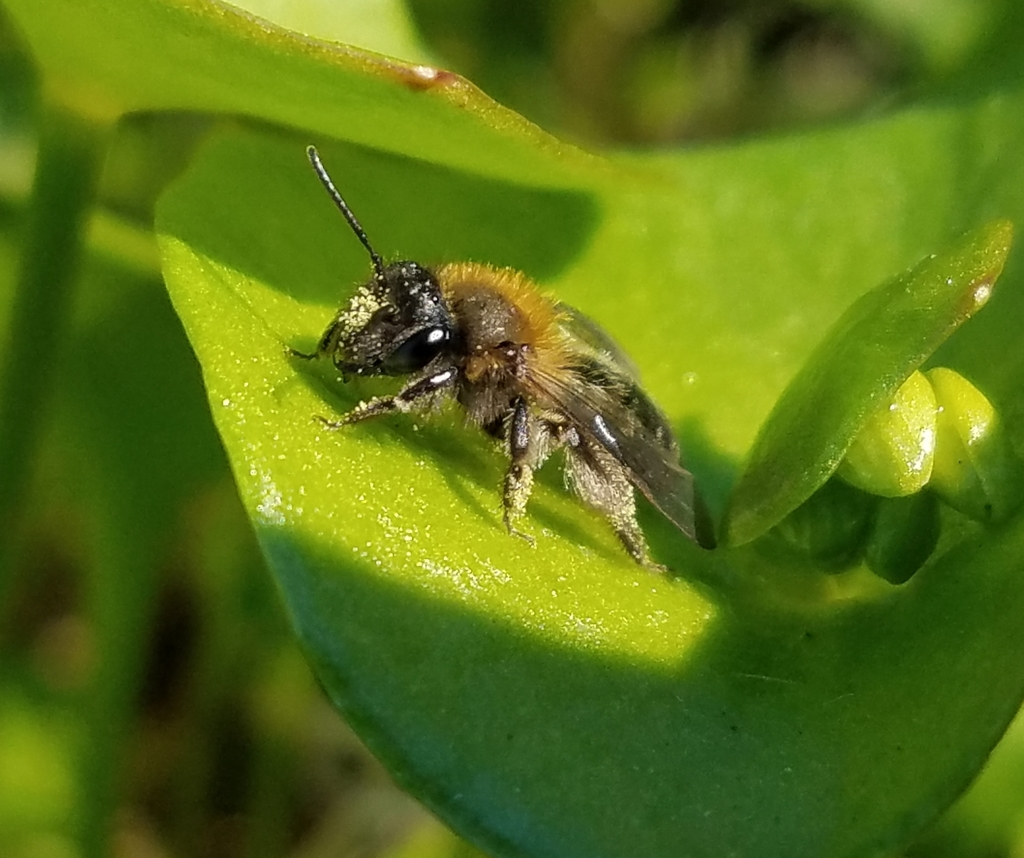not_bumblebee: (285, 141, 718, 574)
